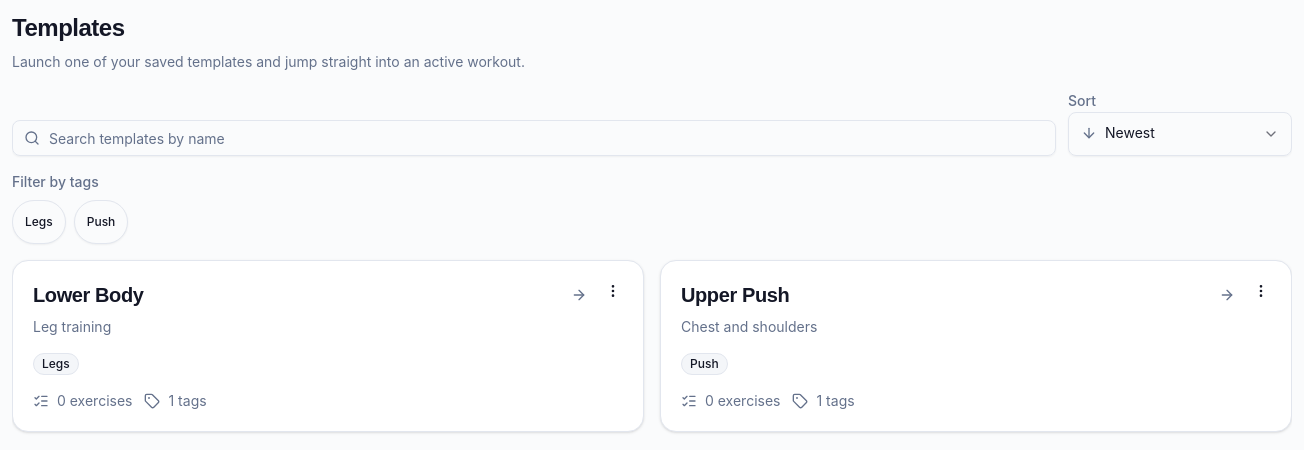
Test case: TemplateBrowser › filters templates by search query
Type "lower" into the search field labelled "Search templates by name". click: (534, 138)
box: [12,120,1056,156]
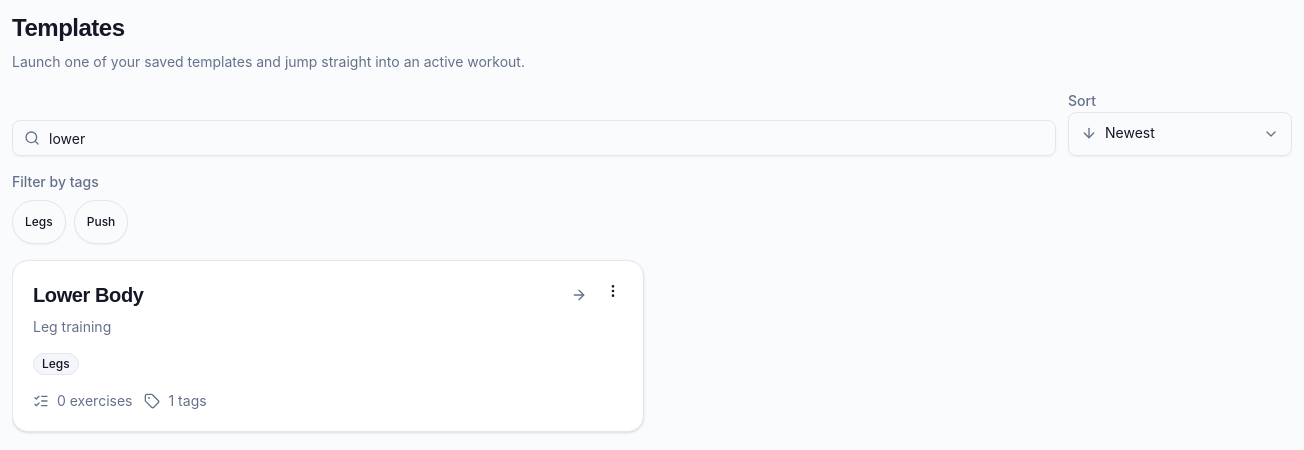
Expected: the link "Lower Body" is shown, [33,281,587,411]
Expected: the link "Upper Push" is gone
